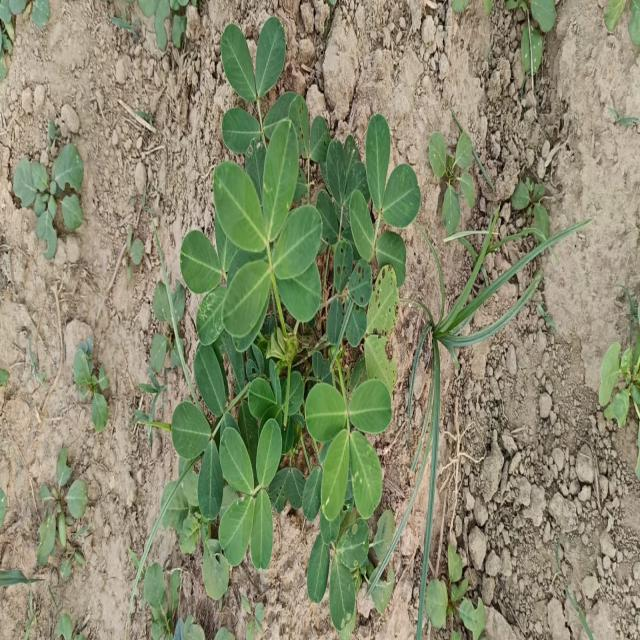plant: (135, 13, 422, 637), (162, 15, 421, 635)
